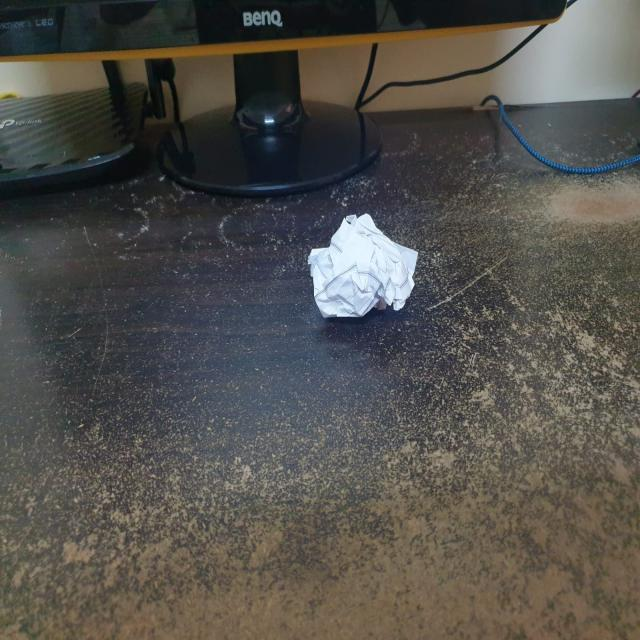Paper: (312, 216, 421, 318)
